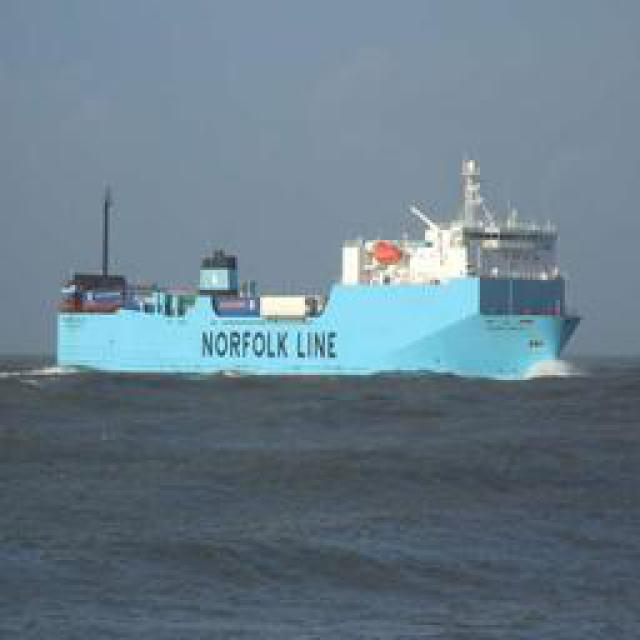Ship: (49, 191, 592, 381)
